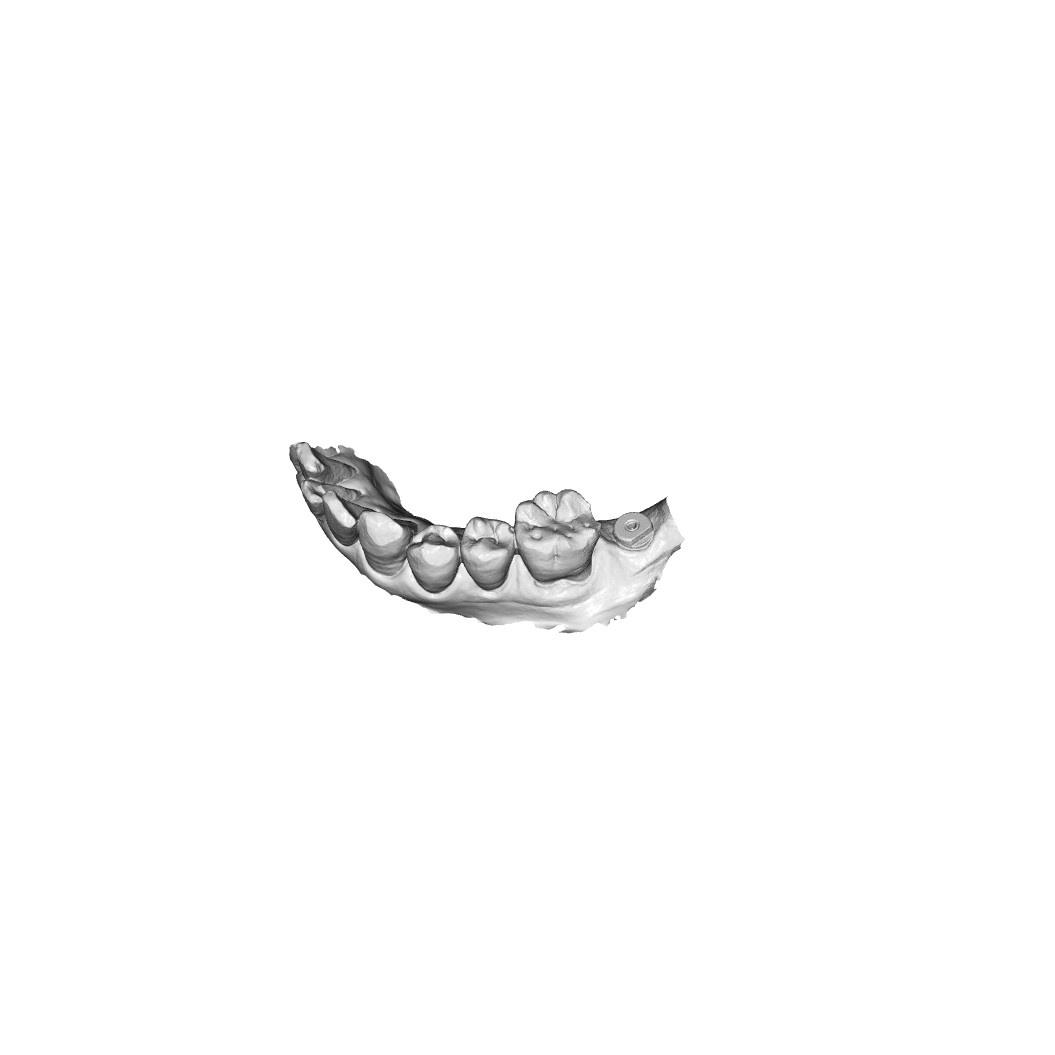canine: (356, 507, 415, 577)
implant: (611, 506, 654, 553)
incisor: (291, 439, 360, 486), (299, 473, 365, 522), (322, 488, 366, 547)
molar: (510, 483, 597, 587)
premolar: (457, 514, 516, 591), (408, 521, 464, 593)
